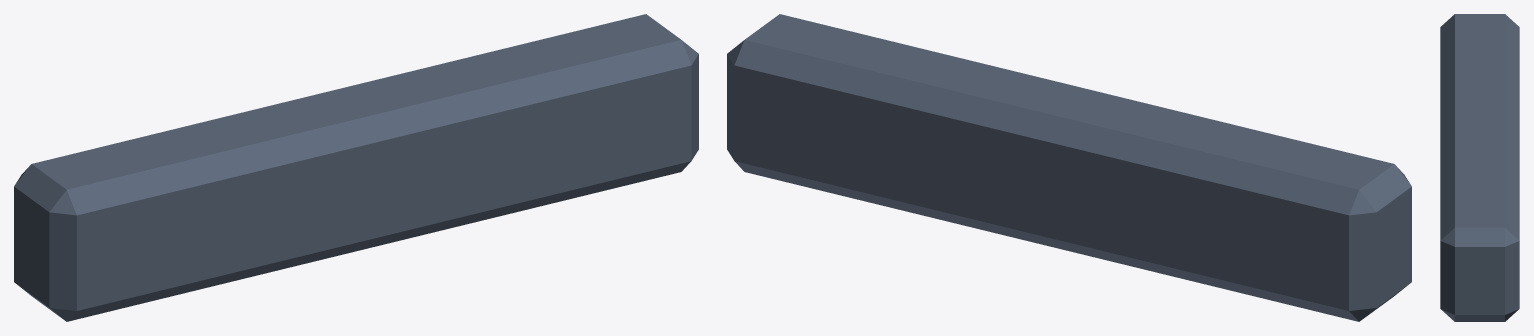
File: chest__rib_trim__base.glb
3 renders of one model, left to right at view 1: azimuth 30°, elevation 25°; view 2: azimuth 150°, elevation 25°; view 3: azimuth 270°, elevation 25°, orthographic. The views are drawn at different scales.
Visible parts, largest first — view 1: armor_chest__rib_trim__base_v001; view 2: armor_chest__rib_trim__base_v001; view 3: armor_chest__rib_trim__base_v001.
Boxes of the visible parts, x1=… form: armor_chest__rib_trim__base_v001: x1=14, y1=14, x2=698, y2=321; armor_chest__rib_trim__base_v001: x1=727, y1=14, x2=1411, y2=321; armor_chest__rib_trim__base_v001: x1=1440, y1=14, x2=1519, y2=321.
Size of the model in its own units: 0.1116 by 0.0217 by 0.0165.
